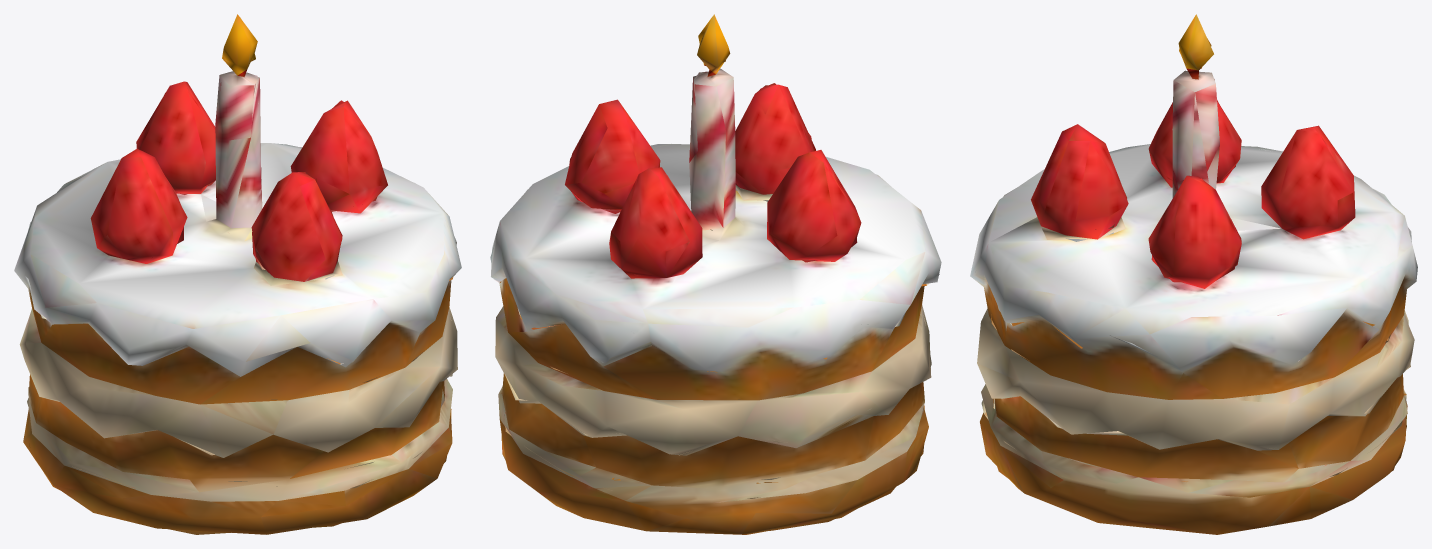
File: lg-giant-cake.glb
3 renders of one model, left to right at view 1: azimuth 30°, elevation 25°; view 2: azimuth 150°, elevation 25°; view 3: azimuth 270°, elevation 25°, orthographic.
Visible parts, largest first — view 1: geometry_0; view 2: geometry_0; view 3: geometry_0.
Part boxes in pixels (x1=…): geometry_0: x1=14, y1=14, x2=461, y2=534; geometry_0: x1=490, y1=14, x2=941, y2=534; geometry_0: x1=970, y1=14, x2=1417, y2=534.
Bounding box in the file's own units: 0.9328 × 1 × 0.9355.
Materials: 1 (1 with a texture image).
